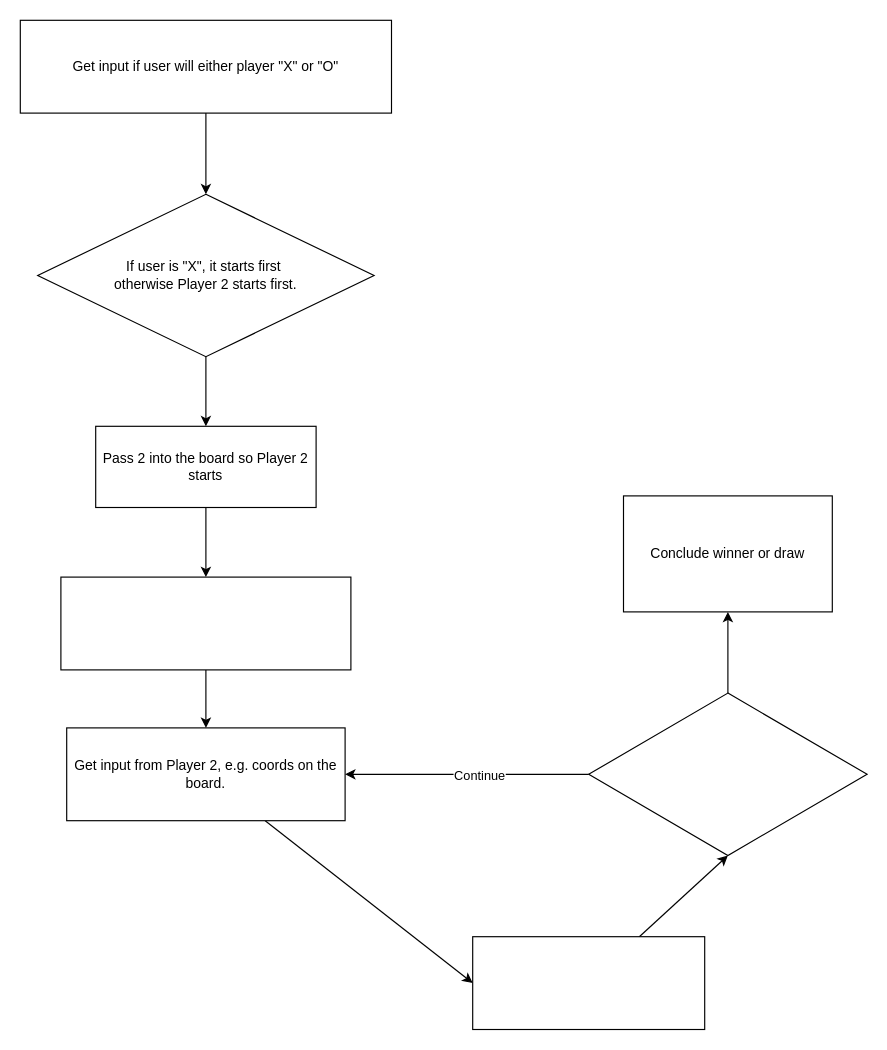
Image size: 887x1050. Some labels were removed from this diagram. Here are the shapes that lost their labels. From the top down, the centre of each, then its label:
(x=205, y=623): Initialise TicTacToe with Player 2 set as "X" and vice versa for Player 1.
(x=727, y=773): Is game over?
(x=588, y=983): Switch to the next player
